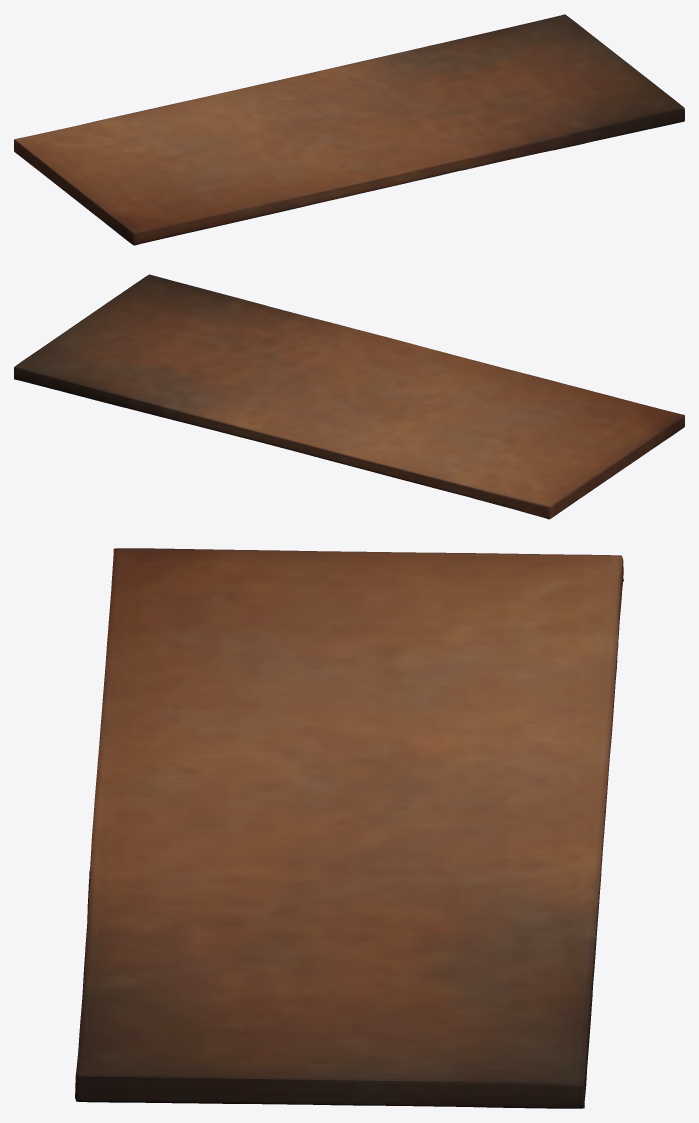
The model's file is wooden_table_000.glb.
The picture shows the model from 3 angles, top to bottom: view 1: azimuth 30°, elevation 25°; view 2: azimuth 150°, elevation 25°; view 3: azimuth 270°, elevation 25°; orthographic projection. The views are drawn at different scales.
Visible parts, largest first — view 1: phase2_final_wooden_table_000.obj; view 2: phase2_final_wooden_table_000.obj; view 3: phase2_final_wooden_table_000.obj.
Part boxes in pixels (bbox=[...]): phase2_final_wooden_table_000.obj: bbox=[14, 14, 684, 245]; phase2_final_wooden_table_000.obj: bbox=[14, 274, 684, 519]; phase2_final_wooden_table_000.obj: bbox=[75, 548, 623, 1108].
Bounding box in the file's own units: 2.5 × 0.0592 × 1.08.
Materials: 1 (1 with a texture image).
